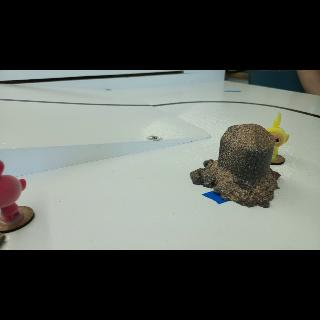teletubby: (0, 161, 26, 222), (267, 113, 289, 159)
